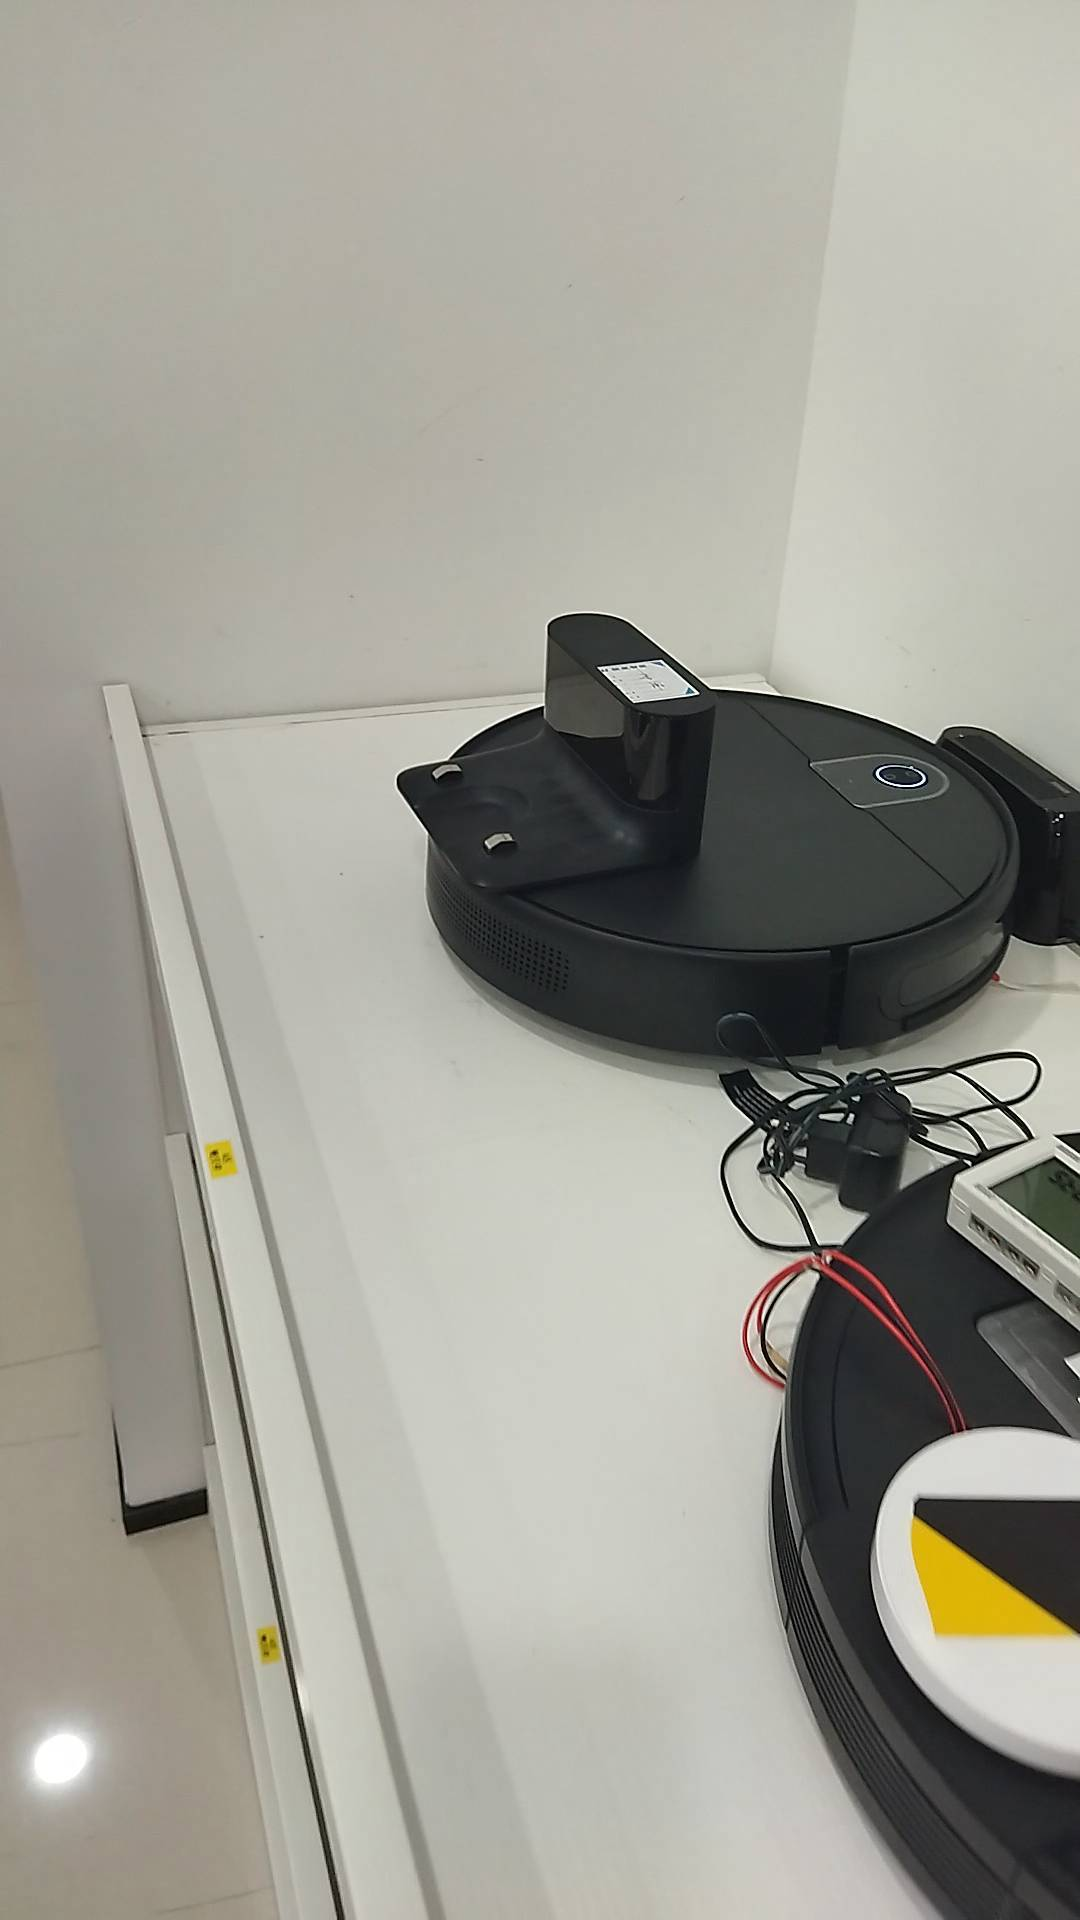recharge seat: (398, 611, 723, 891)
